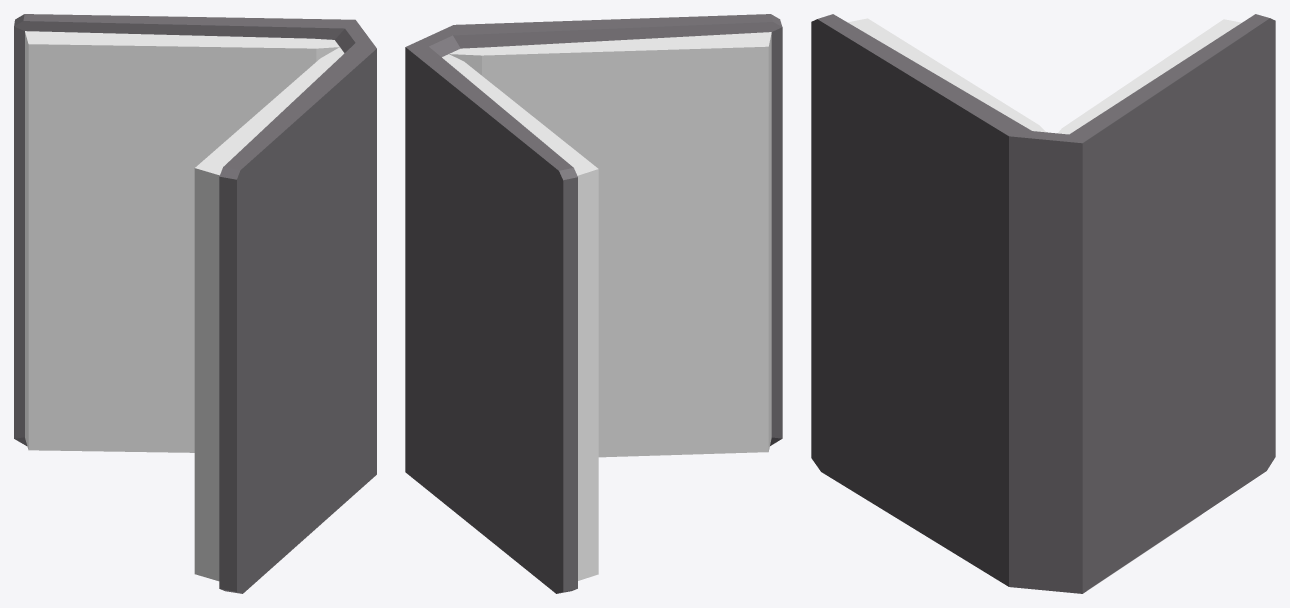
File: bookopen04.gltf
3 renders of one model, left to right at view 1: azimuth 30°, elevation 25°; view 2: azimuth 150°, elevation 25°; view 3: azimuth 270°, elevation 25°, orthographic. The views are drawn at different scales.
Visible parts, largest first — view 1: Cube.001; view 2: Cube.001; view 3: Cube.001.
Boxes of the visible parts, box(x1,y1,x2,y2) form: Cube.001: box(14, 14, 376, 593); Cube.001: box(405, 14, 782, 593); Cube.001: box(811, 14, 1275, 593).
Bounding box in the file's own units: 0.1061 × 0.1646 × 0.1537.
1 material, 1 textured.
